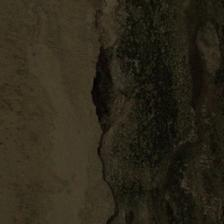Crack: (27, 8, 94, 118), (0, 0, 80, 74)
